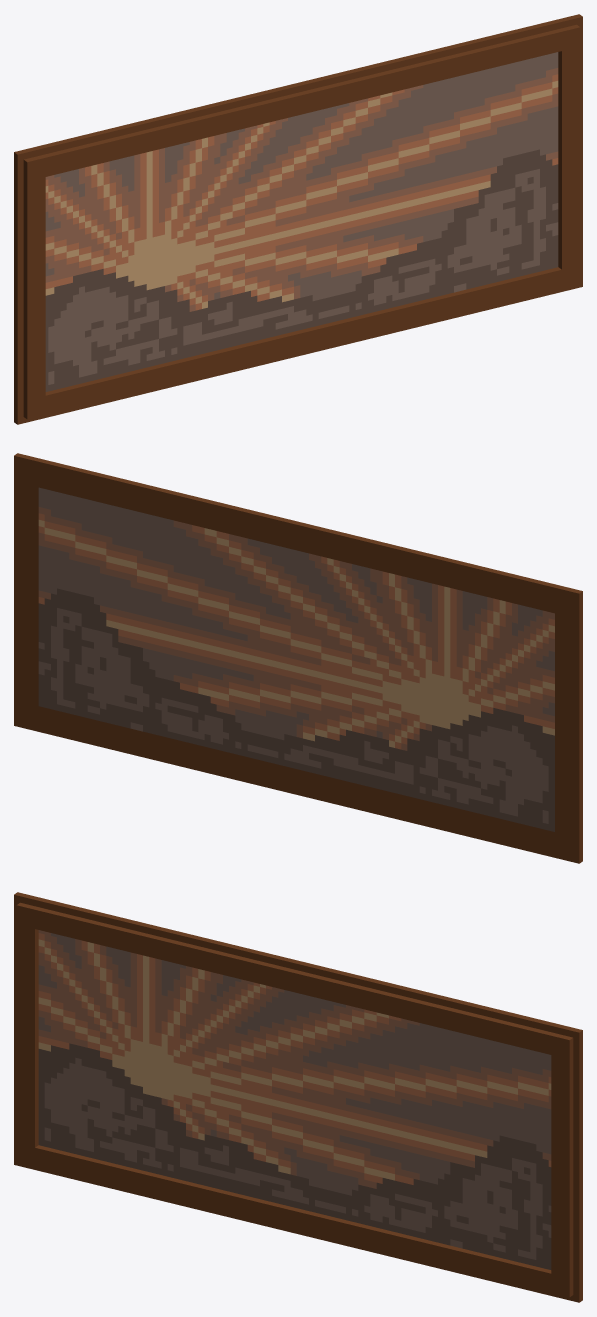
File: toile01.obj
3 renders of one model, top to bottom at view 1: azimuth 30°, elevation 25°; view 2: azimuth 150°, elevation 25°; view 3: azimuth 330°, elevation 25°, orthographic.
Size of the model in its own units: 92 by 42 by 2.
1 material, 1 textured.
